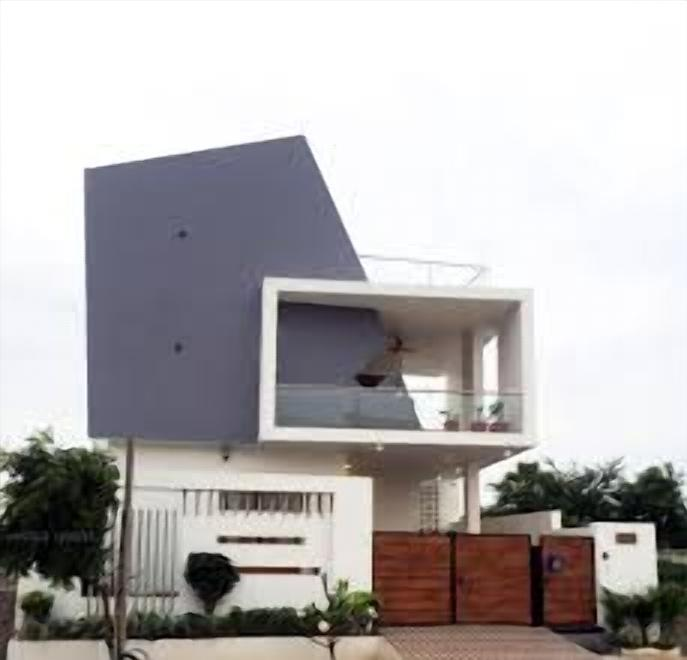Building: (84, 134, 538, 588)
Gate: (374, 529, 539, 628)
Window-without-grill: (420, 485, 440, 533)
